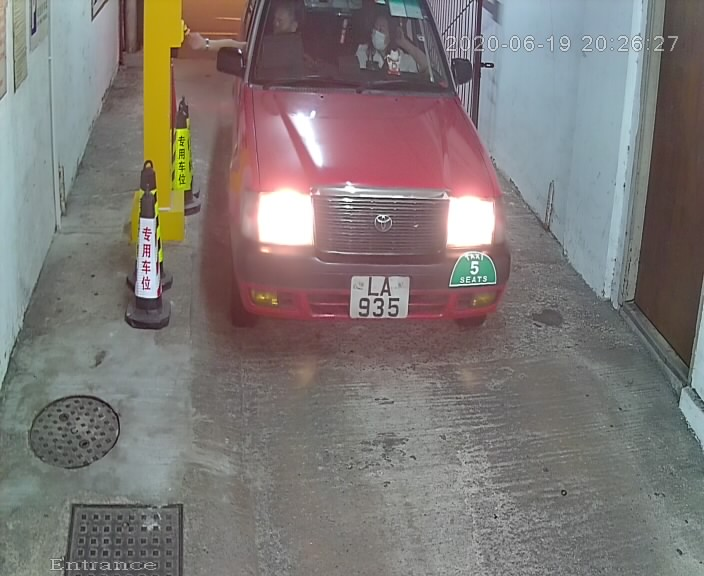taxi: (204, 2, 519, 346)
taxi_mark: (446, 246, 503, 295)
